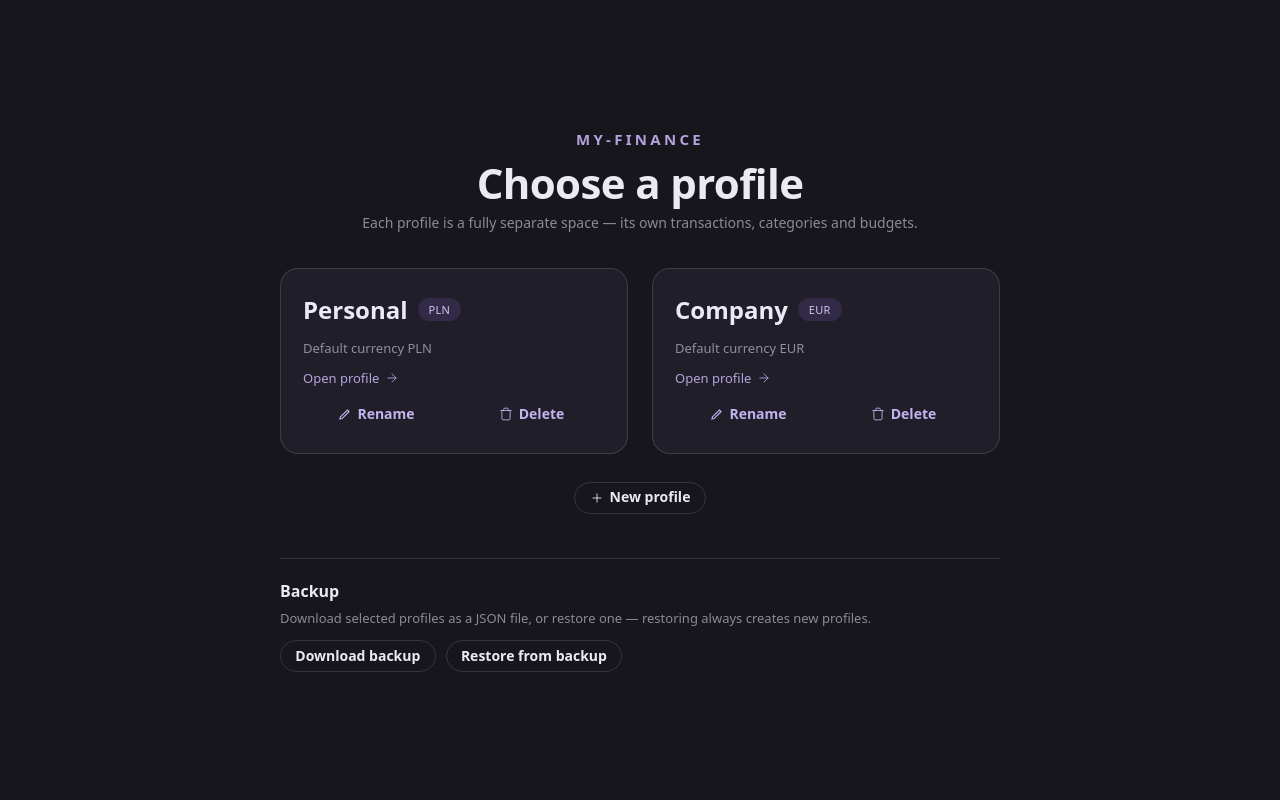
Test: a 409 last-profile error from delete surfaces in the UI instead of failing silently
Click the button named "Delete profile".
click(532, 414)  # box [458,398,605,431]
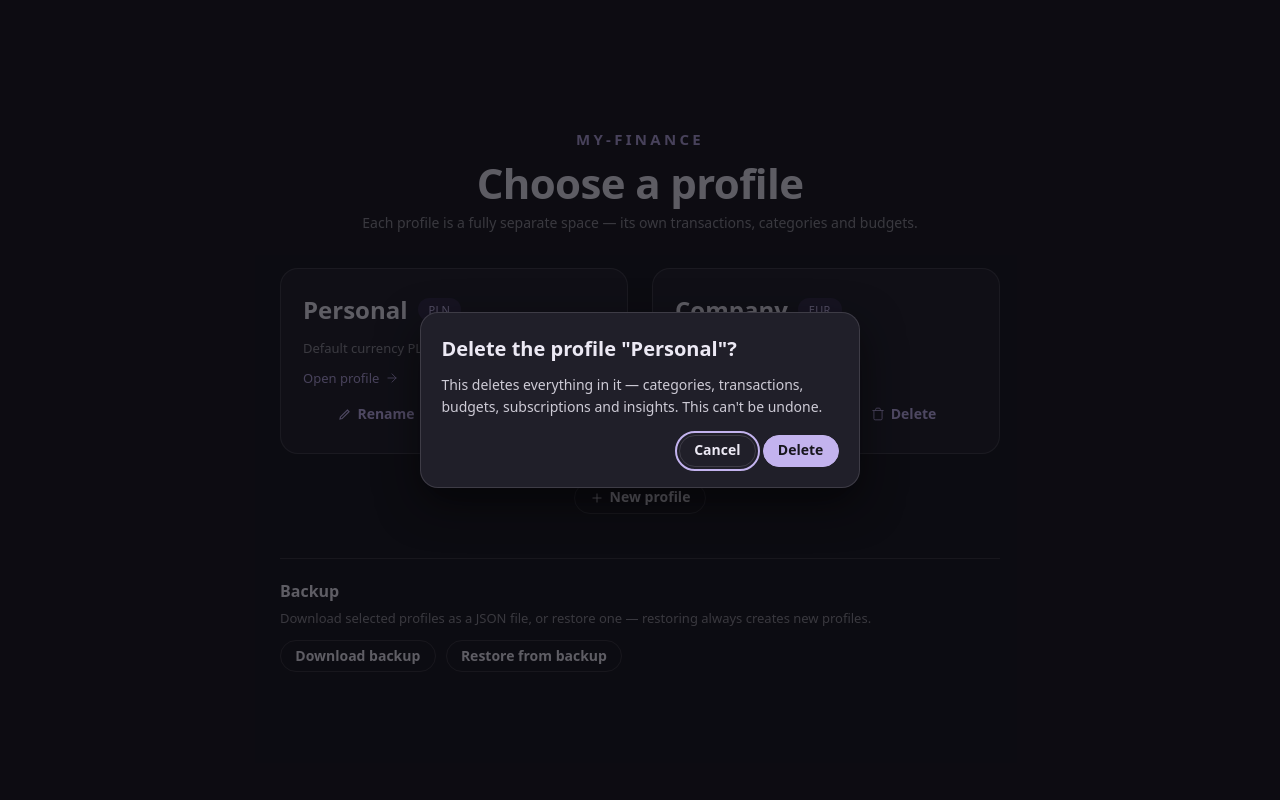
Click the button "Delete".
click(801, 451)  # box [762,435,839,467]
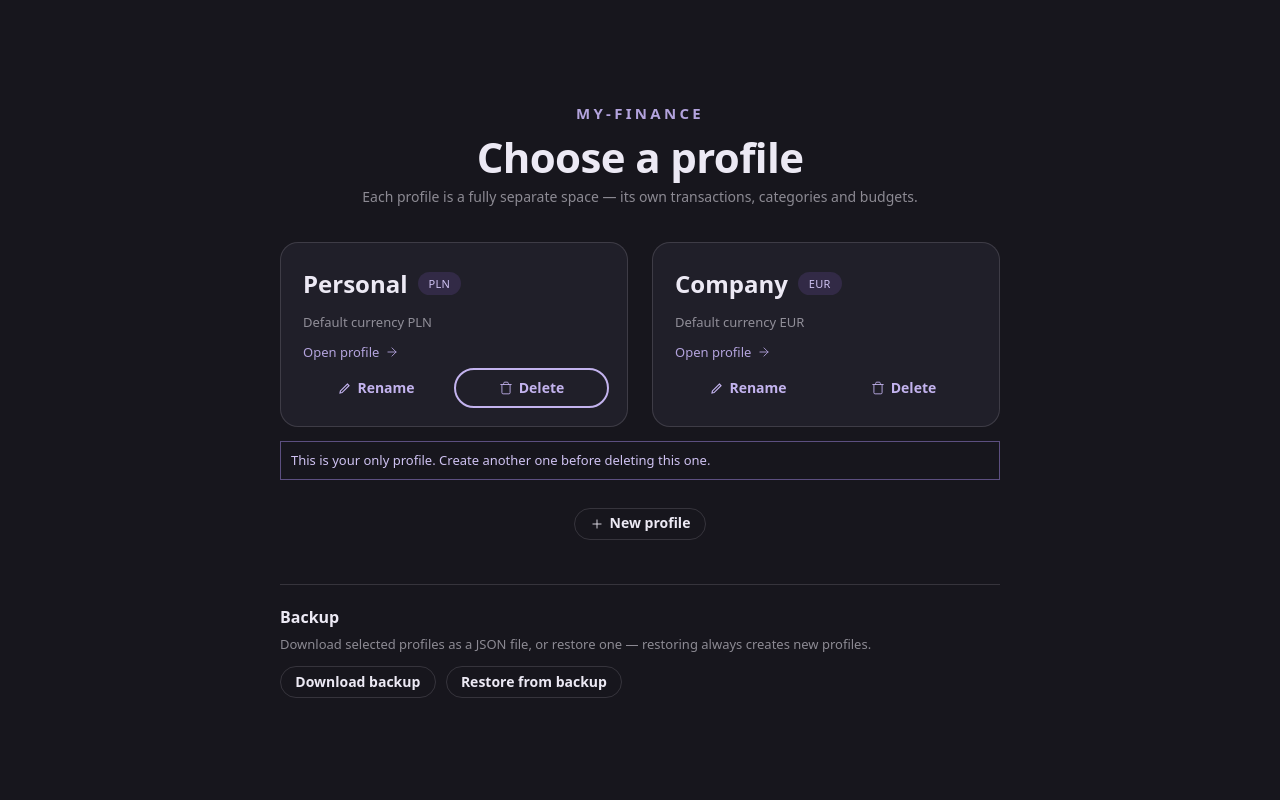
Expected: the text "This is your only profile. Create another one before deleting this one." is shown, [280,442,1000,480]
